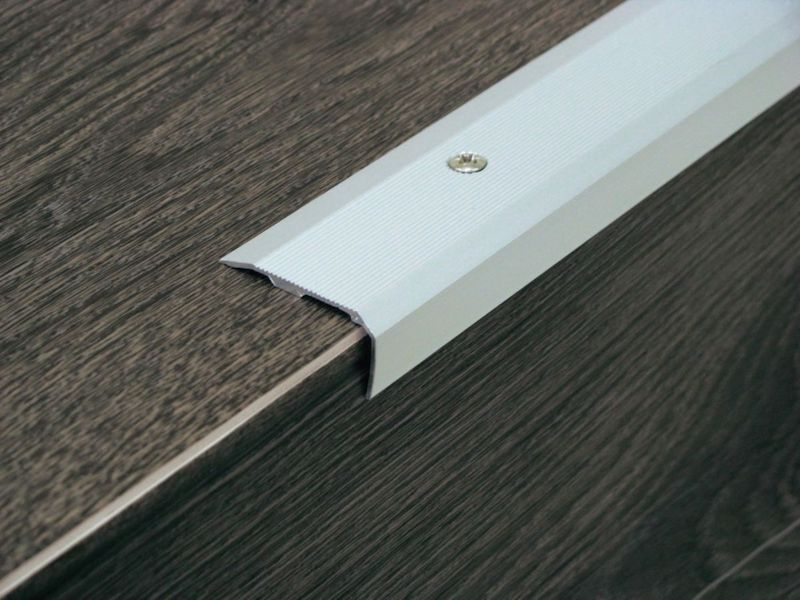screw: (446, 151, 490, 176)
